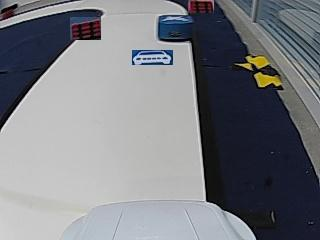prop: (158, 15, 194, 43)
